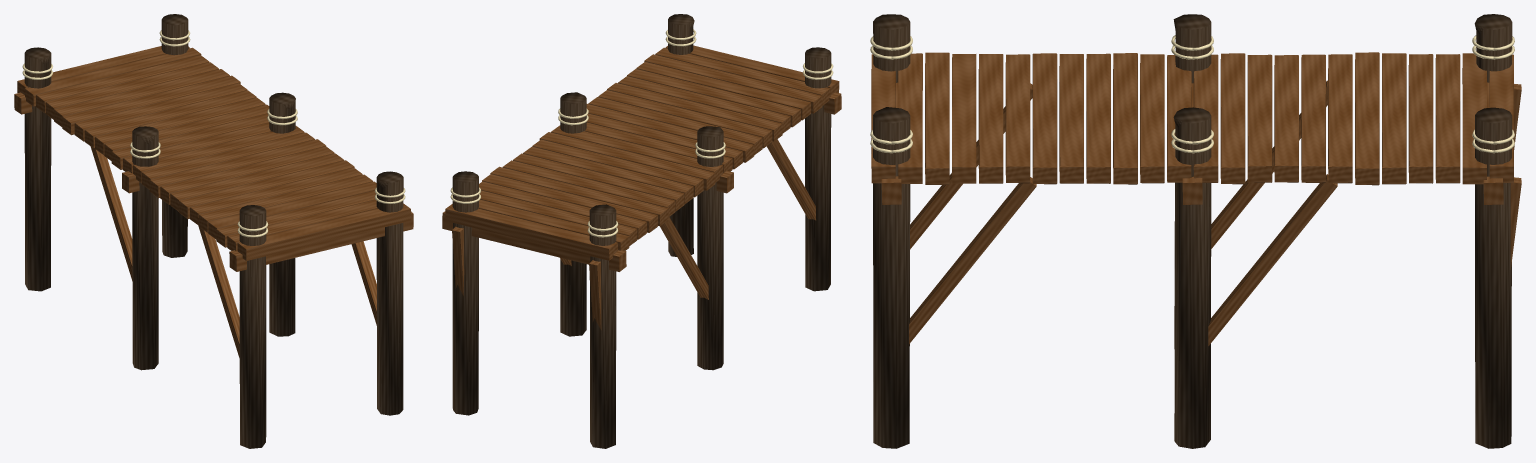
File: dock_straight.glb
3 renders of one model, left to right at view 1: azimuth 30°, elevation 25°; view 2: azimuth 150°, elevation 25°; view 3: azimuth 270°, elevation 25°, orthographic. The views are drawn at different scales.
Visible parts, largest first — view 1: dock_straight_Deck, dock_straight_Joinery, dock_straight_Detail; view 2: dock_straight_Deck, dock_straight_Joinery, dock_straight_Detail; view 3: dock_straight_Deck, dock_straight_Joinery, dock_straight_Detail.
Part boxes in pixels (box(x1,y1,x2,y2)): dock_straight_Deck: box(17, 46, 411, 260); dock_straight_Joinery: box(14, 14, 413, 448); dock_straight_Detail: box(22, 30, 405, 237); dock_straight_Deck: box(445, 45, 839, 260); dock_straight_Joinery: box(442, 14, 841, 448); dock_straight_Detail: box(450, 29, 833, 237); dock_straight_Deck: box(871, 52, 1513, 185); dock_straight_Joinery: box(873, 14, 1521, 448); dock_straight_Detail: box(870, 35, 1514, 153).
Bounding box in the file's own units: 2.66 × 3.35 × 6.06.
1 material, 1 textured.
